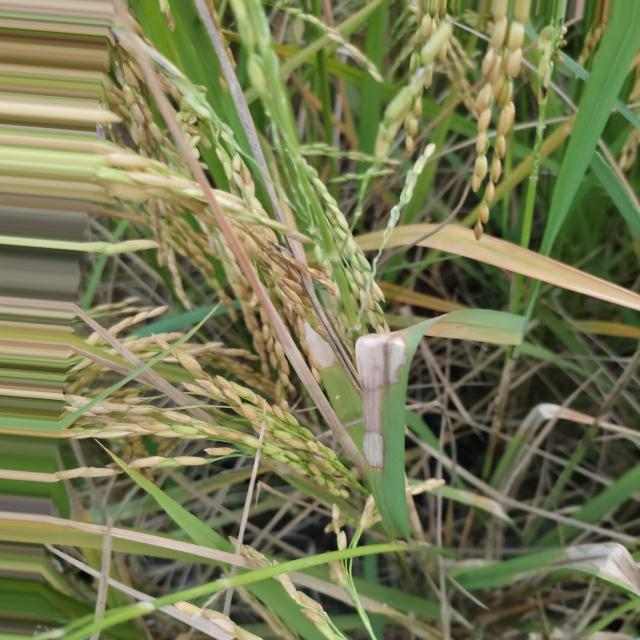Leaf_Blast: (418, 224, 640, 310), (385, 224, 437, 249), (355, 231, 383, 251)
Rice False Smut: (558, 542, 640, 595), (355, 334, 407, 390), (305, 322, 337, 369), (525, 404, 562, 430), (363, 386, 383, 434), (363, 431, 383, 469), (207, 616, 237, 636), (492, 500, 515, 526), (175, 604, 217, 618)
